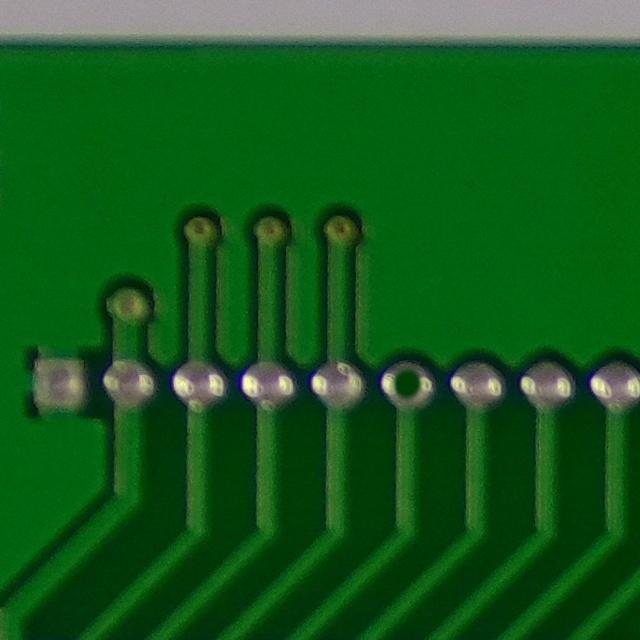missing_hole: (372, 353, 441, 413)
